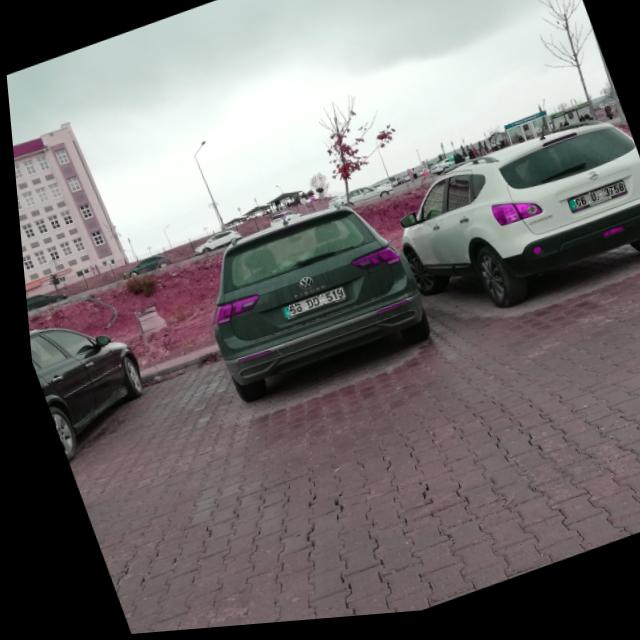license_plate: (275, 291, 341, 323), (561, 190, 623, 221)
